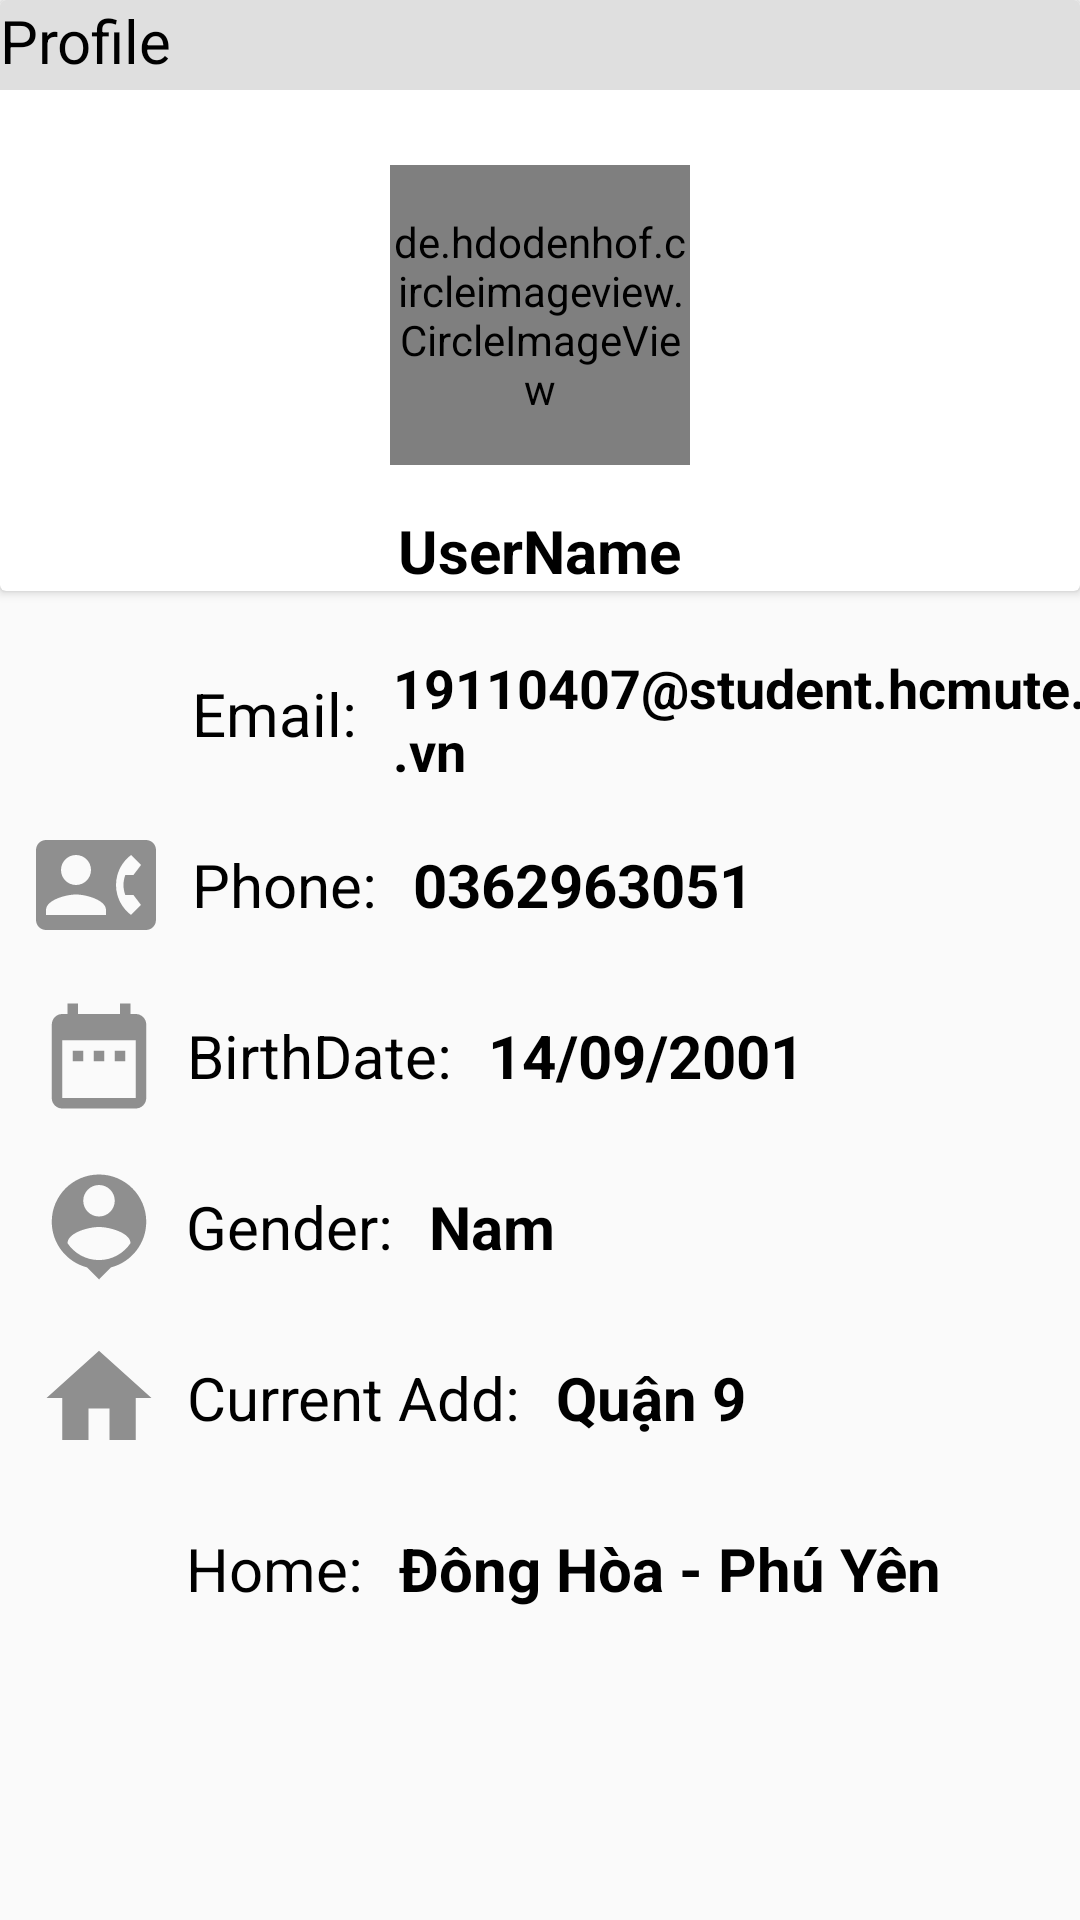

Locate icon controls on the screen. Image size 1080 x 1920, boxes as box=[x1, y1, x2, y2].
date range: box=[51, 1003, 147, 1109]
person pin profile: box=[51, 1174, 147, 1279]
